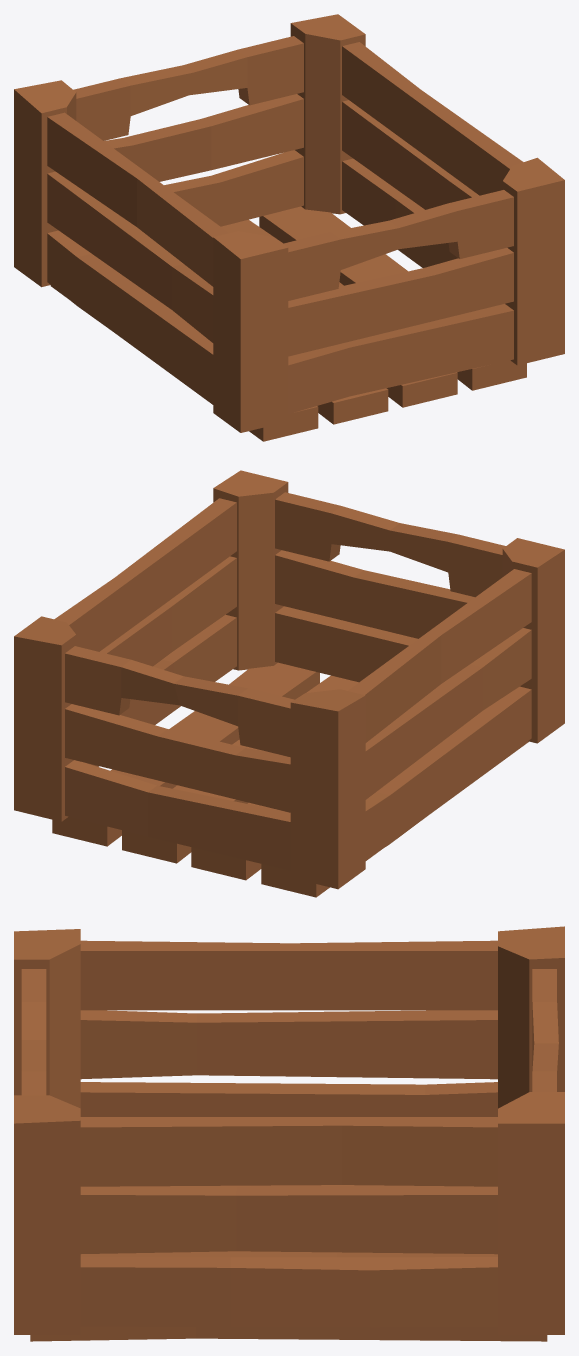
The model's file is WoodenBox.fbx.
3 renders of one model, top to bottom at view 1: azimuth 30°, elevation 25°; view 2: azimuth 150°, elevation 25°; view 3: azimuth 270°, elevation 25°, orthographic. The views are drawn at different scales.
Visible parts, largest first — view 1: Cube.8232; view 2: Cube.8232; view 3: Cube.8232.
Part boxes in pixels (box(x1,y1,x2,y2)): Cube.8232: box(14, 14, 564, 441); Cube.8232: box(14, 470, 564, 897); Cube.8232: box(14, 926, 564, 1341).
Bounding box in the file's own units: 102 × 59.45 × 123.
1 material, 1 textured.
